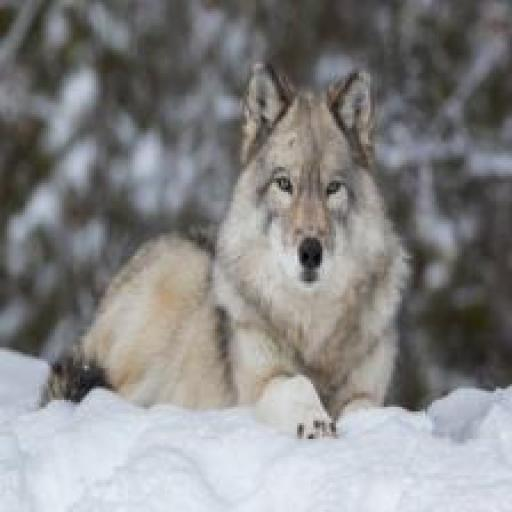wolf: (0, 13, 445, 512)
